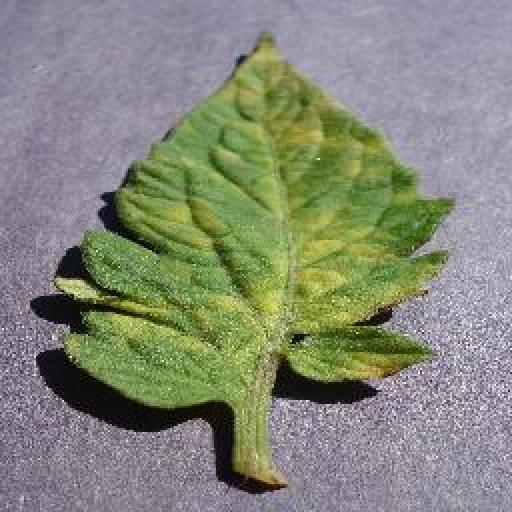disease_tomato: (55, 33, 462, 412)
